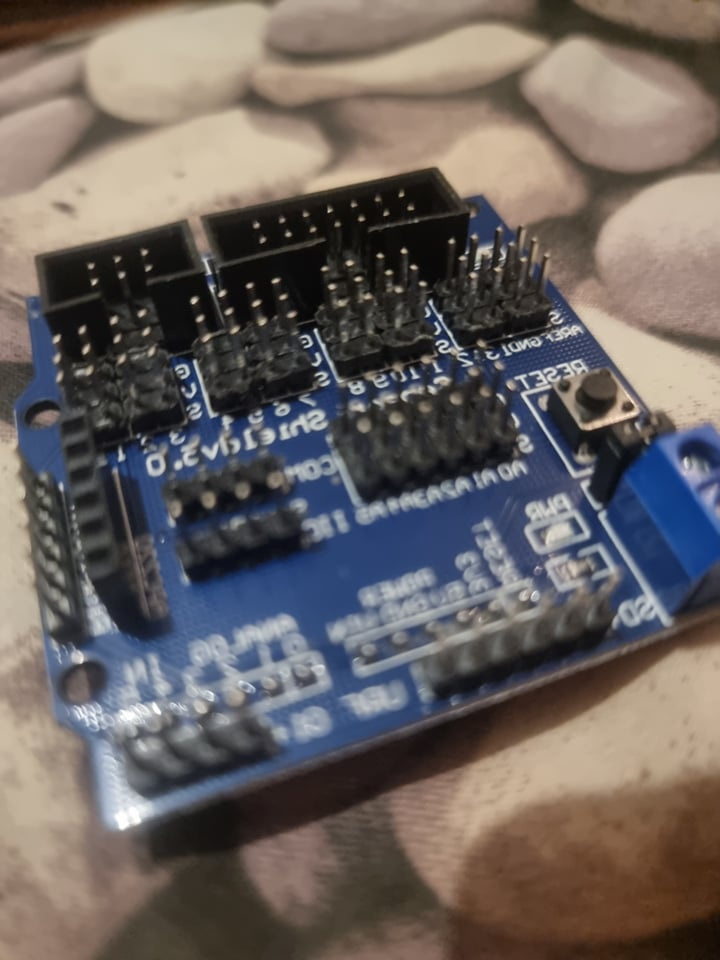5V EXPANSION: (17, 167, 719, 838)
